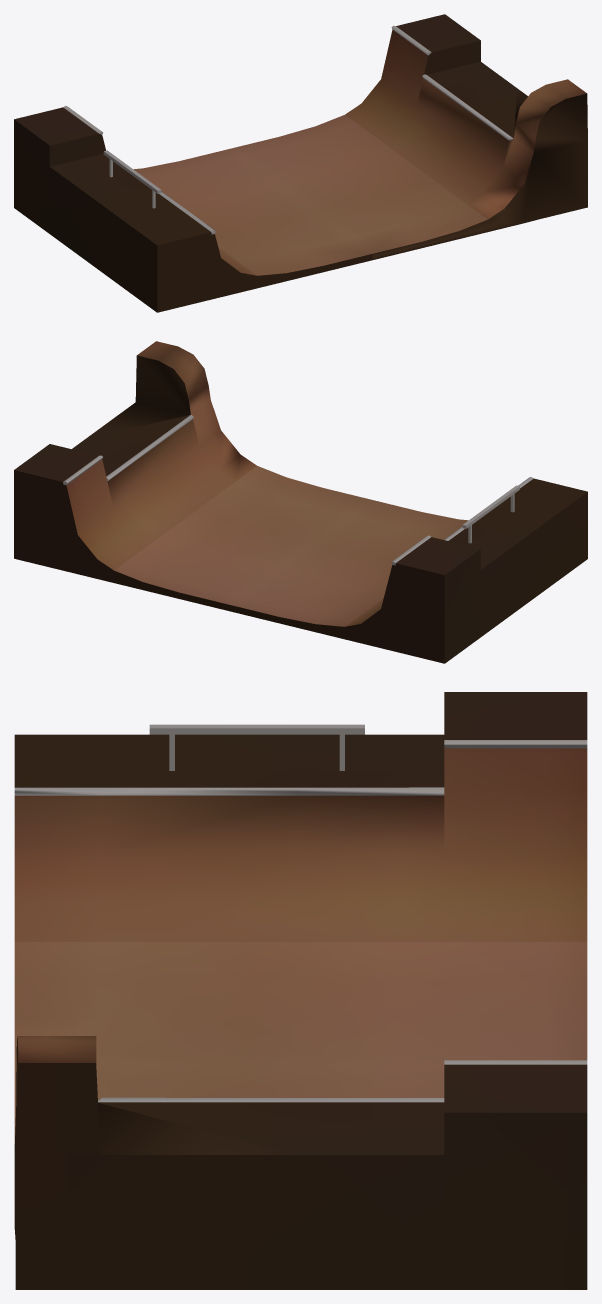
File: HalfPipeExtensionRollin.glb
3 renders of one model, top to bottom at view 1: azimuth 30°, elevation 25°; view 2: azimuth 150°, elevation 25°; view 3: azimuth 270°, elevation 25°, orthographic. The views are drawn at different scales.
Parts seen in each view (by area): view 1: HalfPipeExtensionRollin; view 2: HalfPipeExtensionRollin; view 3: HalfPipeExtensionRollin.
Boxes of the visible parts, box(x1,y1,x2,y2) form: HalfPipeExtensionRollin: box(14, 14, 587, 312); HalfPipeExtensionRollin: box(14, 341, 587, 663); HalfPipeExtensionRollin: box(14, 692, 587, 1289).
Bounding box in the file's own units: 13.9 × 3.5 × 8.
Materials: 1 (1 with a texture image).
